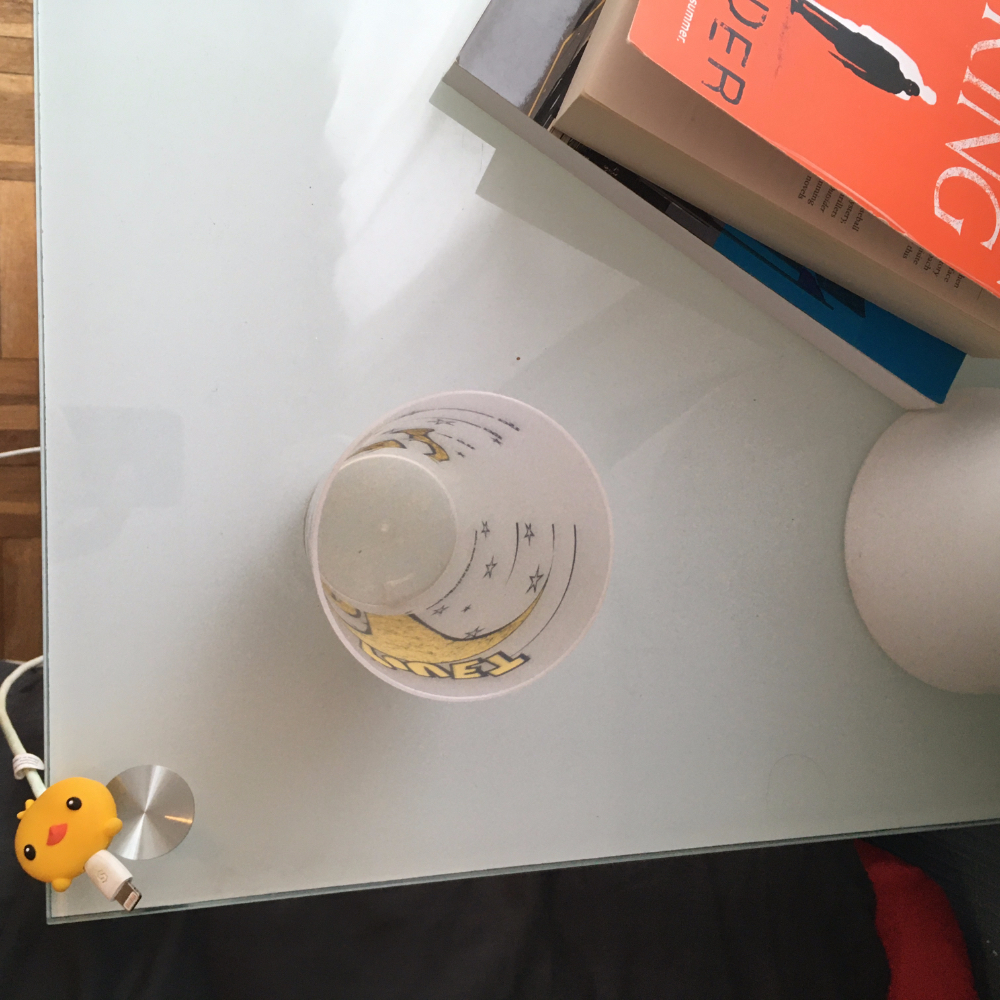ecocup: (304, 390, 615, 702)
